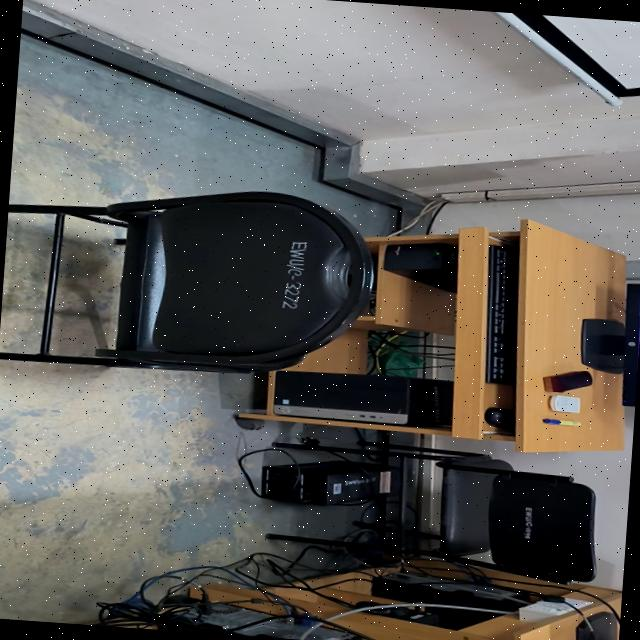Chair: (0, 191, 372, 373), (437, 455, 594, 583)
Cpu: (272, 370, 451, 427), (370, 563, 529, 611), (172, 604, 359, 640), (424, 607, 502, 629)
Keyboard: (484, 245, 516, 383)
Monitor: (580, 283, 640, 406), (576, 617, 614, 640)
Mouse: (483, 407, 513, 430)
